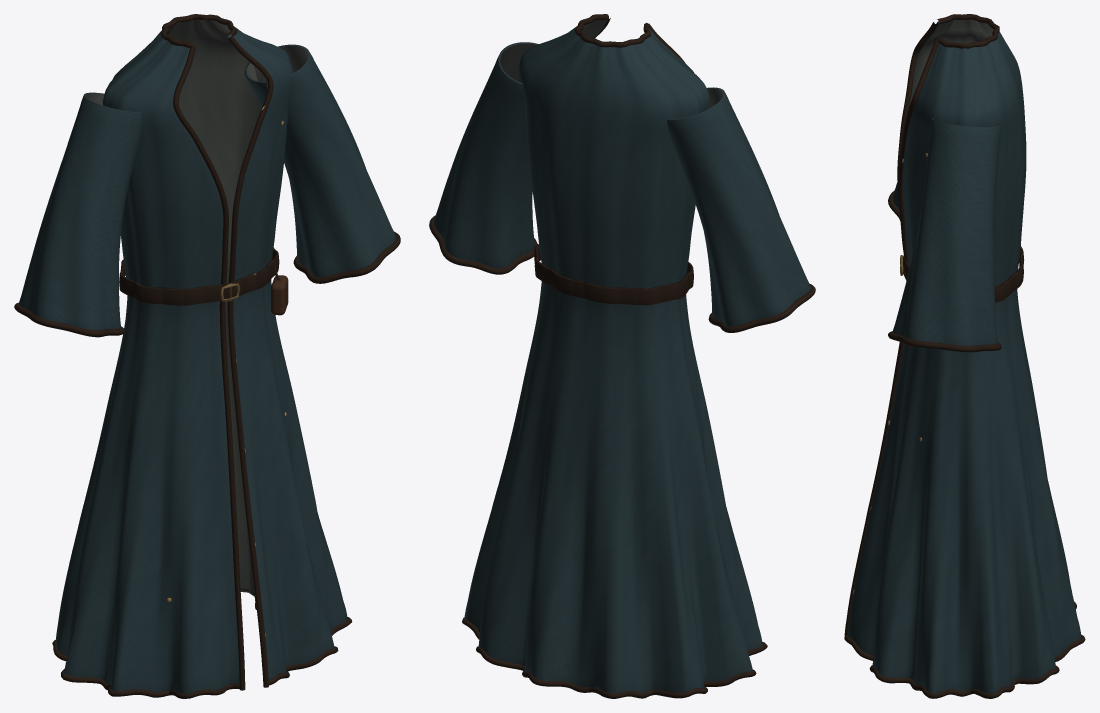
The picture shows the model from 3 angles, left to right: view 1: azimuth 30°, elevation 25°; view 2: azimuth 150°, elevation 25°; view 3: azimuth 270°, elevation 25°; orthographic projection.
Visible parts, largest first — view 1: woven wool, oiled strap leather, brushed wool lining, tanned leather; view 2: woven wool, oiled strap leather, brushed wool lining; view 3: woven wool, oiled strap leather, brushed wool lining.
Boxes of the visible parts, <box> form: woven wool: <box>19,19,395,693</box>; oiled strap leather: <box>14,14,400,698</box>; brushed wool lining: <box>85,19,308,602</box>; tanned leather: <box>271,275,288,315</box>; woven wool: <box>433,25,810,696</box>; oiled strap leather: <box>429,14,815,698</box>; brushed wool lining: <box>500,19,723,108</box>; woven wool: <box>847,19,1081,698</box>; oiled strap leather: <box>844,14,1085,698</box>; brushed wool lining: <box>910,19,999,125</box>.
Size of the model in its own units: 0.868 by 1.42 by 0.5043.
Materials: 7 (5 with a texture image).
